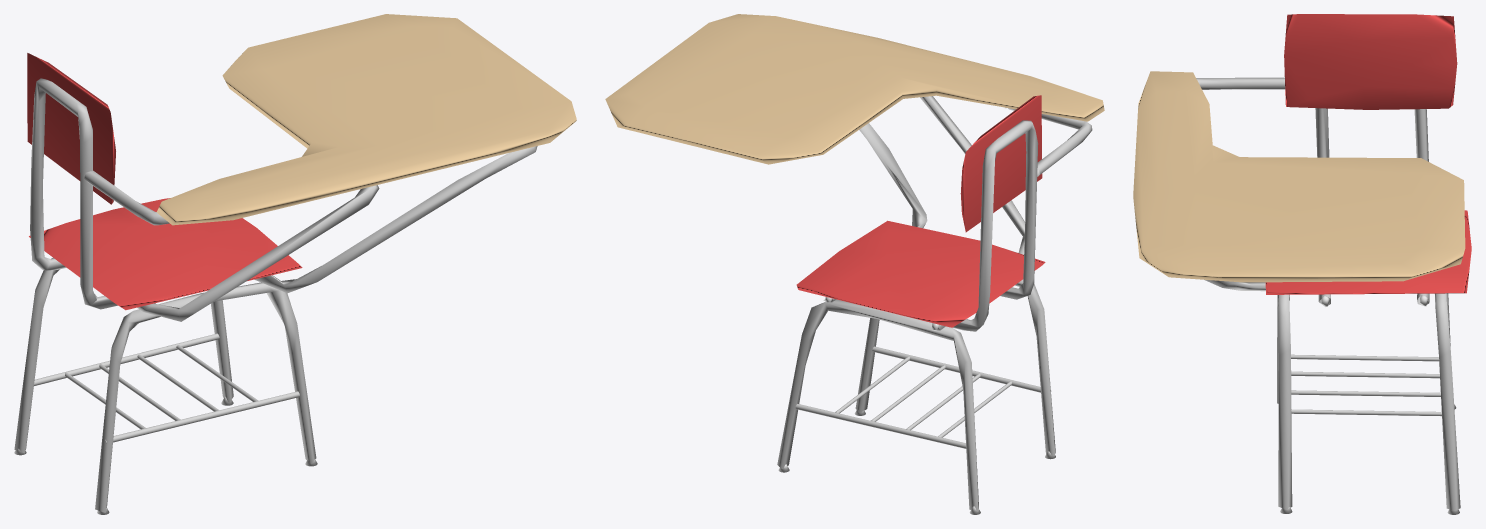
The model's file is studentdeskLowRes2.fbx.
3 renders of one model, left to right at view 1: azimuth 30°, elevation 25°; view 2: azimuth 150°, elevation 25°; view 3: azimuth 270°, elevation 25°, orthographic. The views are drawn at different scales.
Visible parts, largest first — view 1: Mball_002, Cube, NurbsCurve, NurbsCurve_004, Cube_001, NurbsCurve_003, NurbsCurve_002, NurbsCurve_006, NurbsCurve_001, NurbsCurve_005; view 2: Mball_002, Cube, NurbsCurve_002, NurbsCurve_004, Cube_001, NurbsCurve_003, NurbsCurve, NurbsCurve_001, NurbsCurve_005, NurbsCurve_006; view 3: Mball_002, Cube_001, Cube, NurbsCurve_003, NurbsCurve_002, NurbsCurve_004, NurbsCurve_001, NurbsCurve_012, NurbsCurve_011, NurbsCurve_010, NurbsCurve_009, NurbsCurve.
Part boxes in pixels (x1,y1,x2,y2): Mball_002: (156,14,576,225); Cube: (29,198,302,310); NurbsCurve: (137,146,537,321); NurbsCurve_004: (30,78,117,309); Cube_001: (27,53,115,204); NurbsCurve_003: (95,282,316,512); NurbsCurve_002: (14,258,233,453); NurbsCurve_006: (105,391,299,443); NurbsCurve_001: (84,170,169,225); NurbsCurve_005: (34,333,219,385); Mball_002: (605,14,1104,164); Cube: (796,220,1045,327); NurbsCurve_002: (777,299,978,511); NurbsCurve_004: (952,120,1038,331); Cube_001: (960,95,1042,232); NurbsCurve_003: (855,279,1055,456); NurbsCurve: (823,96,1025,330); NurbsCurve_001: (1008,108,1092,176); NurbsCurve_005: (795,404,966,448); NurbsCurve_006: (872,346,1051,392); Mball_002: (1133,71,1465,282); Cube_001: (1284,14,1457,109); Cube: (1265,210,1471,294); NurbsCurve_003: (1277,294,1292,509); NurbsCurve_002: (1435,293,1460,510); NurbsCurve_004: (1315,108,1429,306); NurbsCurve_001: (1196,77,1285,89); NurbsCurve_012: (1291,409,1441,416); NurbsCurve_011: (1291,390,1440,396); NurbsCurve_010: (1291,371,1439,378); NurbsCurve_009: (1291,354,1439,361); NurbsCurve: (1204,279,1265,291).
Bounding box in the file's own units: 5.69 × 5.06 × 3.86.
